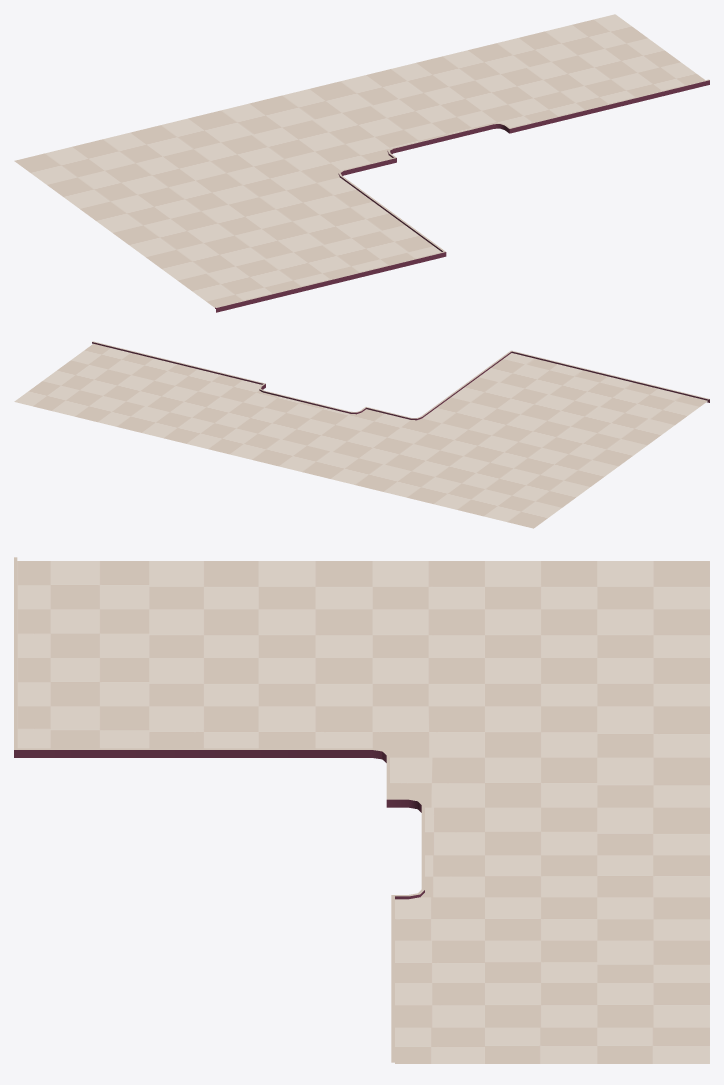
Rendered from Outside_Road_03.fbx.
The picture shows the model from 3 angles, top to bottom: view 1: azimuth 30°, elevation 25°; view 2: azimuth 150°, elevation 25°; view 3: azimuth 270°, elevation 25°; orthographic projection. The views are drawn at different scales.
Visible parts, largest first — view 1: Outside_Road_03; view 2: Outside_Road_03; view 3: Outside_Road_03.
Part boxes in pixels (left/top/right/bottom): Outside_Road_03: left=14, top=14, right=709, bottom=312; Outside_Road_03: left=14, top=341, right=709, bottom=528; Outside_Road_03: left=14, top=557, right=709, bottom=1063.
Size of the model in its own units: 3547 by 26.17 by 2065.
